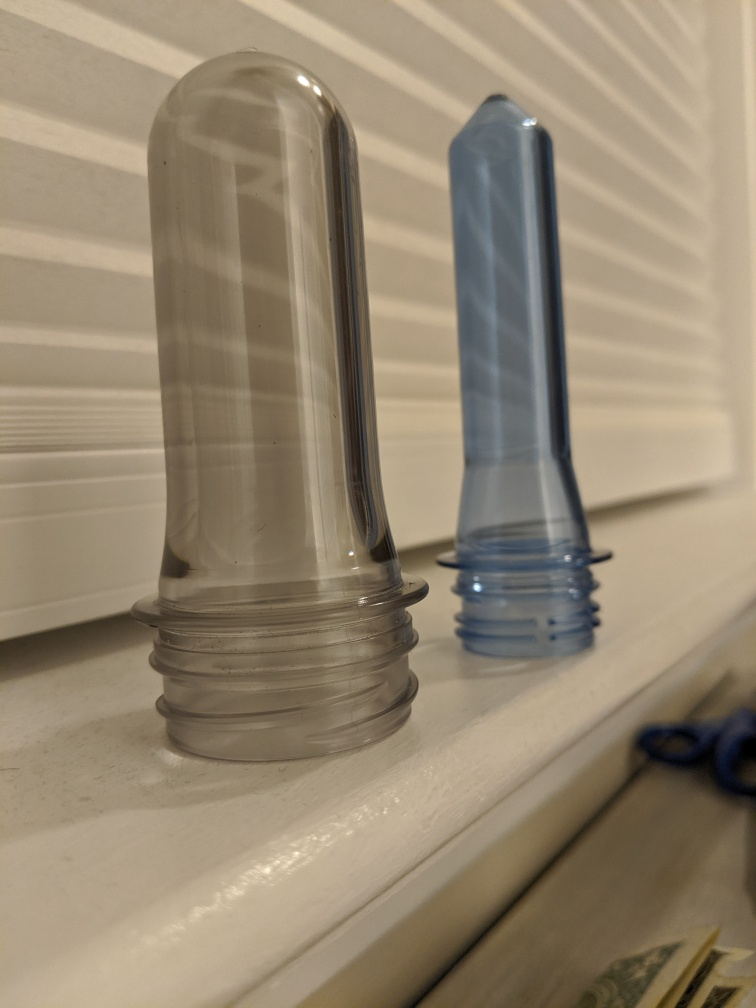preform: (120, 31, 437, 768), (434, 80, 621, 667)
